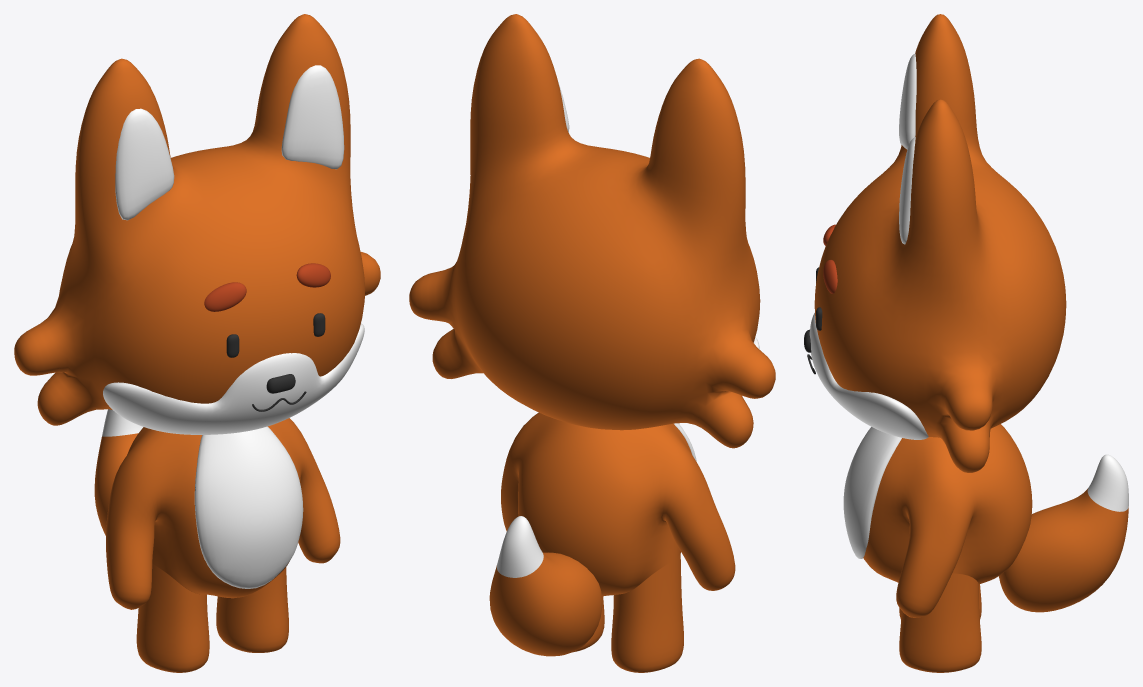
The model's file is character.glb.
The picture shows the model from 3 angles, left to right: view 1: azimuth 30°, elevation 25°; view 2: azimuth 150°, elevation 25°; view 3: azimuth 270°, elevation 25°; orthographic projection. The views are drawn at different scales.
Visible parts, largest first — view 1: Tete; view 2: Tete; view 3: Tete.
Boxes of the visible parts, x1,y1,x2,y2 form: Tete: (14,14,380,672); Tete: (409,14,775,672); Tete: (804,14,1128,672).
Bounding box in the file's own units: 2.53 × 4.12 × 2.07.
